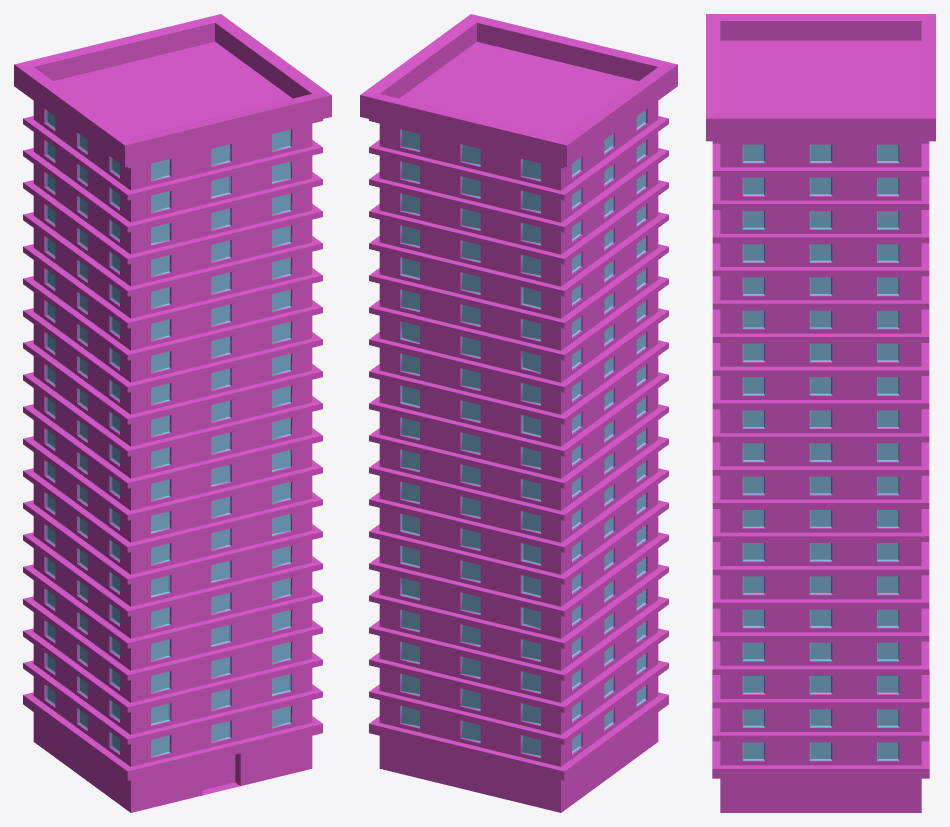
The model's file is Pink Tall.fbx.
The picture shows the model from 3 angles, left to right: view 1: azimuth 30°, elevation 25°; view 2: azimuth 150°, elevation 25°; view 3: azimuth 270°, elevation 25°; orthographic projection. The views are drawn at different scales.
Visible parts, largest first — view 1: Pink Tall; view 2: Pink Tall; view 3: Pink Tall.
Boxes of the visible parts, x1,y1,x2,y2 form: Pink Tall: (14,14,331,812); Pink Tall: (360,14,677,812); Pink Tall: (706,14,935,812).
Bounding box in the file's own units: 9.84 × 30.69 × 9.12.
